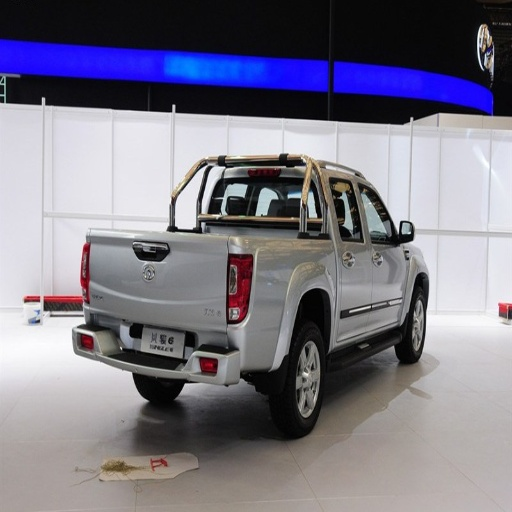back_bumper: (115, 332, 226, 378)
back_right_door: (327, 171, 370, 337)
trunk: (97, 220, 326, 366)
